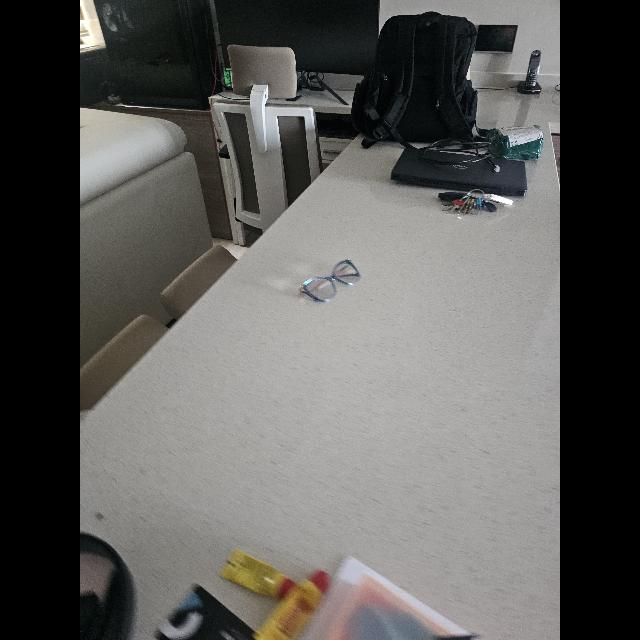Keys: (438, 190, 514, 214)
glasses: (300, 260, 360, 302)
